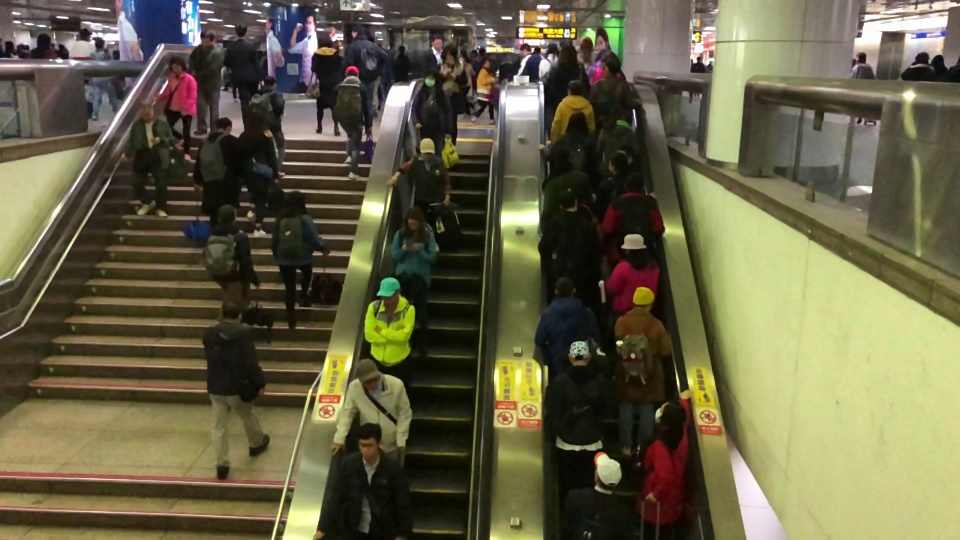person_head: (594, 451, 621, 492), (356, 422, 382, 461), (653, 399, 686, 428), (357, 356, 381, 392), (375, 276, 401, 305), (566, 340, 592, 367), (623, 233, 647, 260), (565, 110, 589, 135), (632, 285, 656, 310), (221, 297, 243, 322), (553, 275, 577, 297), (558, 188, 579, 212), (607, 152, 628, 175), (406, 206, 424, 232), (285, 190, 306, 212), (553, 151, 573, 174), (625, 172, 646, 193), (216, 203, 237, 223), (422, 66, 440, 89), (244, 111, 263, 130), (558, 45, 578, 63), (137, 99, 154, 120), (419, 137, 435, 159), (168, 55, 186, 73), (215, 116, 233, 133), (567, 79, 584, 97), (604, 59, 622, 76), (609, 104, 626, 122), (198, 29, 215, 46), (444, 42, 458, 62), (234, 22, 248, 41), (36, 33, 51, 49), (262, 74, 278, 88), (602, 51, 619, 64), (351, 24, 366, 38), (931, 54, 945, 69), (316, 35, 332, 48), (579, 37, 592, 53), (432, 32, 443, 50), (914, 50, 928, 64), (344, 64, 359, 77), (93, 38, 106, 51), (78, 27, 90, 40), (856, 50, 867, 64), (480, 57, 490, 69), (520, 43, 530, 55), (546, 43, 556, 55), (4, 40, 15, 50), (397, 45, 406, 54), (460, 48, 467, 58), (478, 47, 485, 56), (696, 56, 701, 63), (59, 44, 63, 49)
person_vbox: (201, 297, 271, 482), (311, 422, 412, 540), (613, 285, 675, 456), (633, 387, 696, 539), (544, 340, 604, 490), (330, 357, 413, 465), (269, 190, 329, 332), (386, 138, 452, 253), (389, 206, 438, 357), (593, 171, 666, 267), (120, 98, 177, 217), (533, 274, 603, 366), (202, 204, 260, 311), (535, 190, 600, 280), (362, 276, 417, 381), (563, 450, 622, 540), (599, 232, 663, 314), (238, 111, 279, 238), (192, 116, 241, 216), (153, 56, 198, 161), (333, 65, 373, 181), (538, 149, 594, 228), (248, 73, 288, 177), (188, 29, 226, 136), (344, 25, 389, 115), (409, 66, 454, 156), (594, 152, 656, 216), (537, 111, 597, 176), (225, 22, 262, 125), (311, 35, 342, 137), (549, 79, 596, 145), (595, 104, 641, 167), (438, 43, 468, 136), (590, 58, 640, 113), (69, 27, 97, 117), (89, 39, 120, 120), (548, 46, 588, 106), (470, 56, 498, 126), (851, 51, 874, 123), (589, 51, 627, 85), (459, 49, 476, 117), (901, 51, 934, 82), (422, 31, 445, 70), (517, 43, 541, 80), (538, 43, 559, 79), (30, 33, 56, 60), (576, 36, 599, 64), (395, 45, 411, 82), (931, 53, 949, 82), (693, 58, 704, 98), (58, 44, 68, 59)
